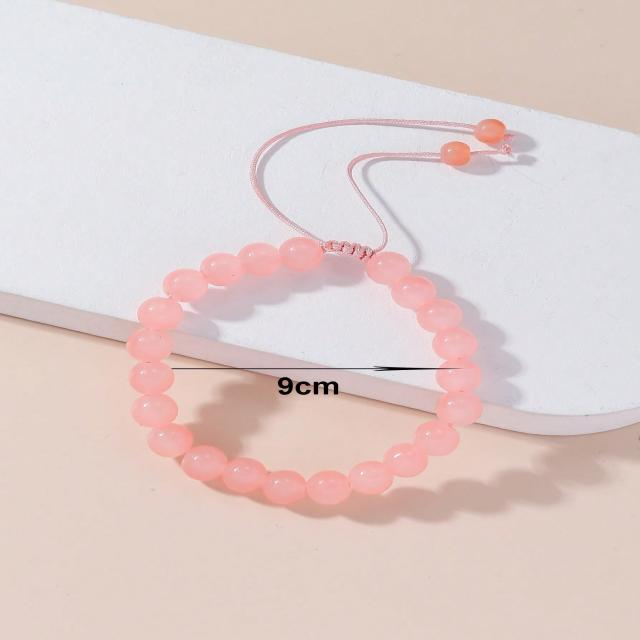bracelet: (83, 39, 609, 550)
